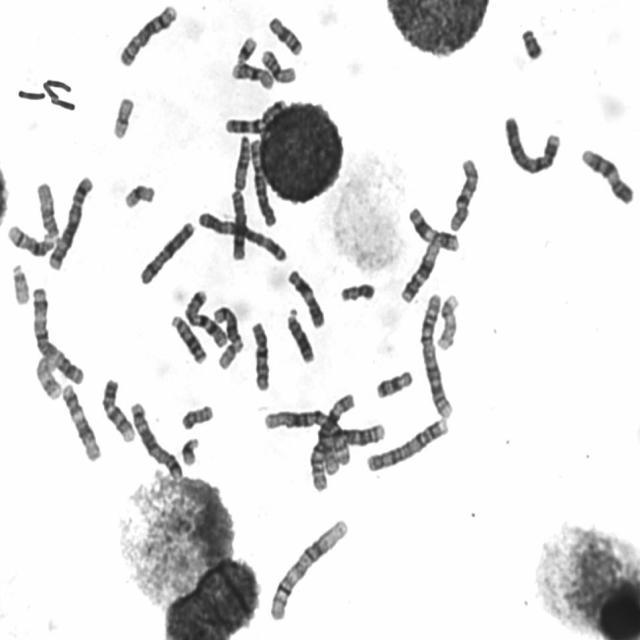A1: (268, 513, 354, 623), (263, 409, 352, 466)
A2: (309, 422, 386, 494), (420, 293, 455, 420)
A3: (32, 286, 84, 386), (196, 210, 288, 264)
B4: (364, 418, 449, 474), (504, 113, 563, 177)
B5: (47, 176, 97, 272), (130, 400, 183, 480)
C10: (448, 156, 483, 233), (250, 319, 273, 394)
C11: (407, 206, 461, 253), (287, 268, 326, 330)
C12: (61, 384, 104, 461), (397, 241, 440, 305)
C6: (317, 392, 356, 476), (250, 139, 278, 228)
C7: (182, 289, 230, 349), (225, 98, 288, 134)
C8: (119, 5, 180, 68), (228, 189, 248, 261)
C9: (581, 146, 633, 205), (99, 374, 136, 443)
D13: (170, 314, 207, 364), (287, 308, 317, 364)
D14: (6, 222, 62, 258), (213, 304, 244, 354)
D15: (34, 182, 61, 246), (233, 134, 252, 190)
E16: (260, 48, 297, 86), (230, 61, 275, 90)
E17: (436, 292, 462, 351), (34, 349, 63, 401)
E18: (268, 14, 303, 56), (376, 369, 414, 400)
F19: (111, 92, 137, 142), (122, 182, 158, 209)
F20: (339, 281, 376, 306), (181, 404, 215, 431)
G21: (236, 36, 258, 66), (180, 437, 200, 468)
G22: (11, 262, 30, 307), (216, 340, 243, 370)
X: (140, 222, 195, 286)
Y: (521, 25, 544, 64)
